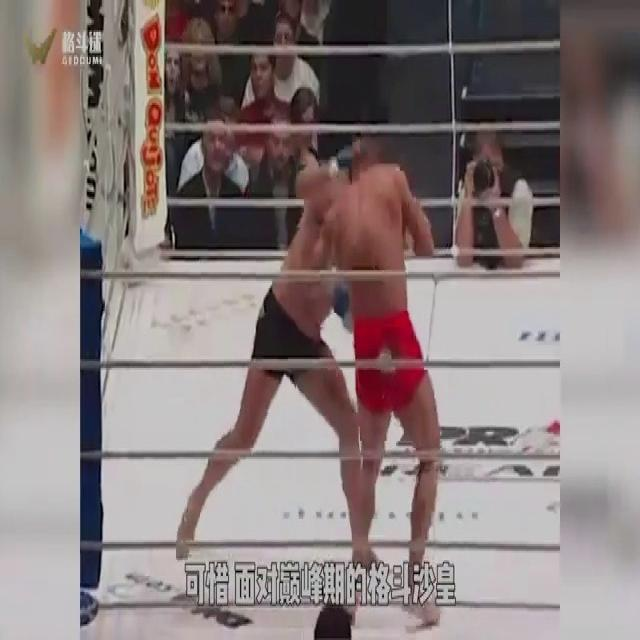fight: (175, 128, 442, 625)
